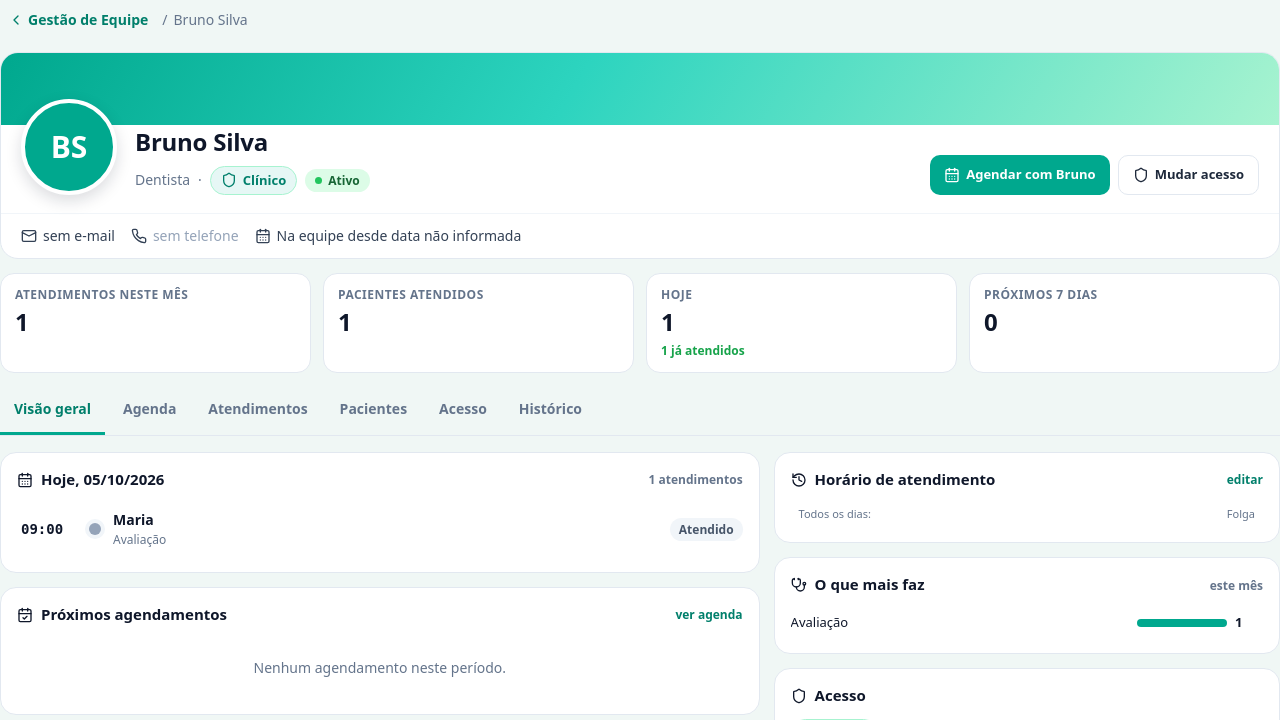
Test: salvar modal revalida horários sem reload e notifica disponibilidade
Click the button "editar": (1245, 480) [1227,471,1263,488]
(page scrolled)
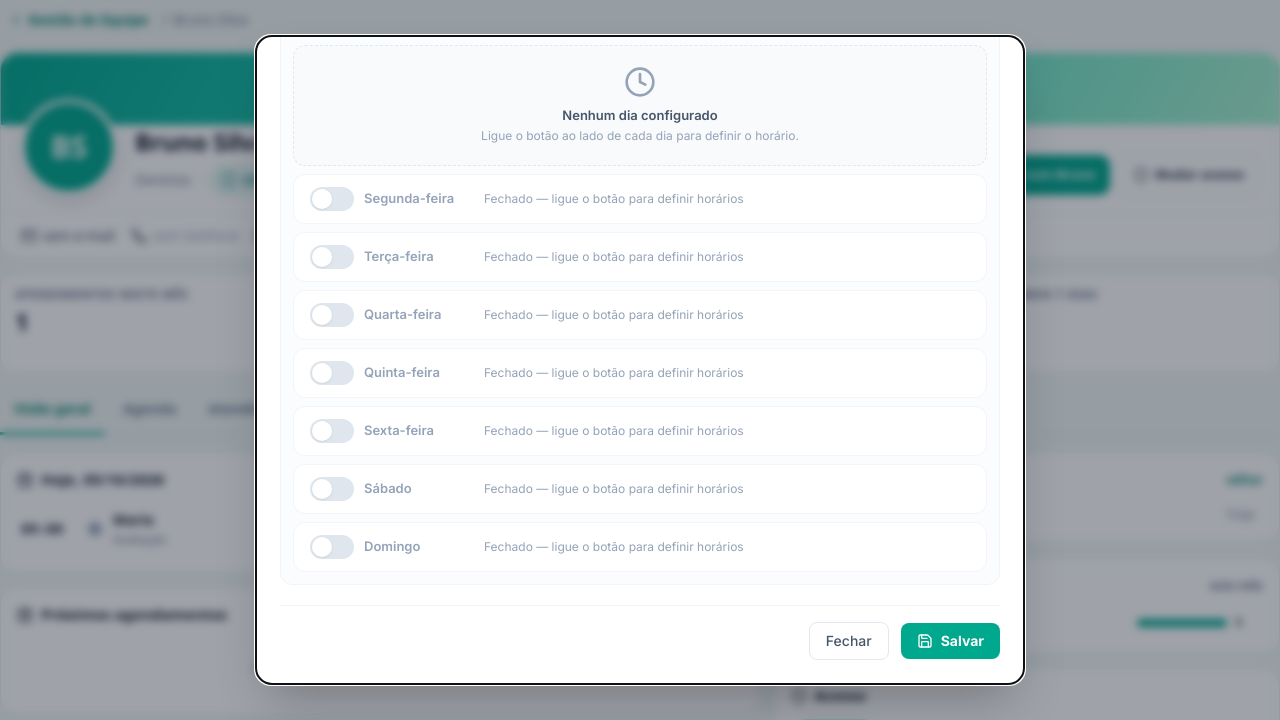
Result: the button "Salvar" is shown
Click the button "Salvar": (950, 641) [901,623,1000,659]
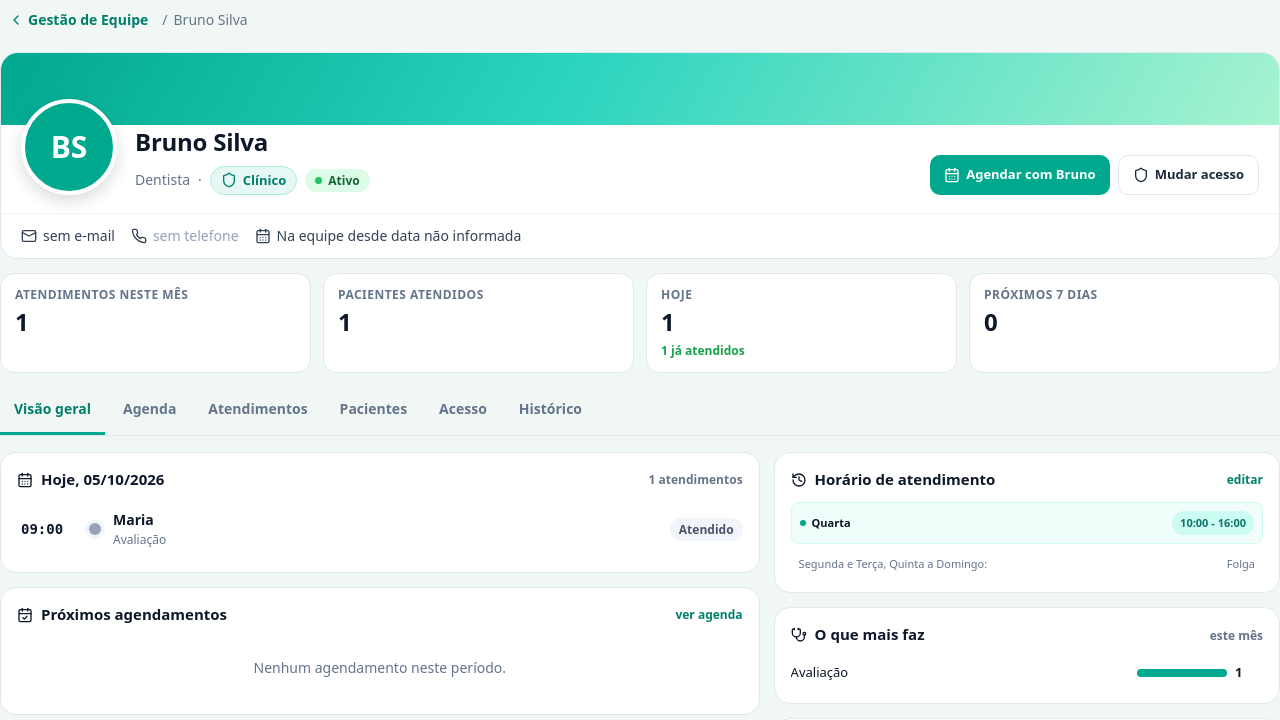
Result: the text "10:00 - 16:00" is shown at [1172,512,1254,535]
Result: the dialog is gone
